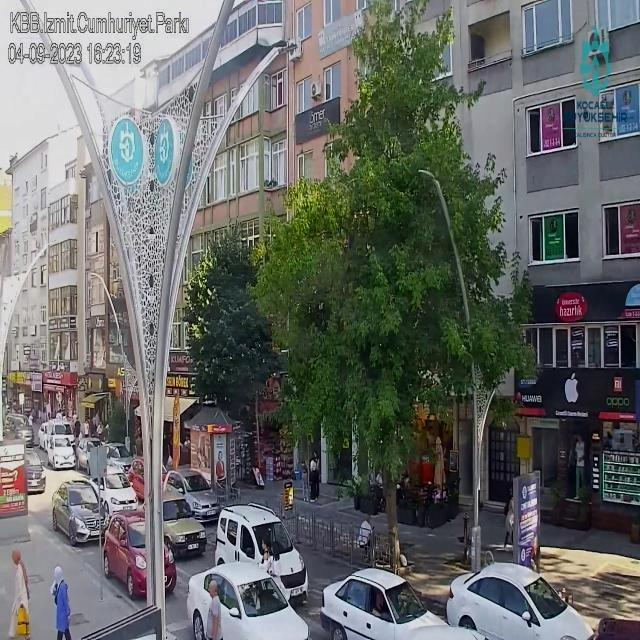Car: (427, 566, 608, 636), (208, 499, 314, 593), (184, 561, 304, 640), (322, 569, 442, 640), (98, 506, 174, 602), (155, 489, 202, 567), (51, 478, 107, 543), (157, 469, 229, 511), (92, 466, 142, 514), (45, 435, 78, 471), (72, 436, 105, 472), (25, 448, 47, 495), (4, 414, 36, 445), (105, 441, 136, 473)
